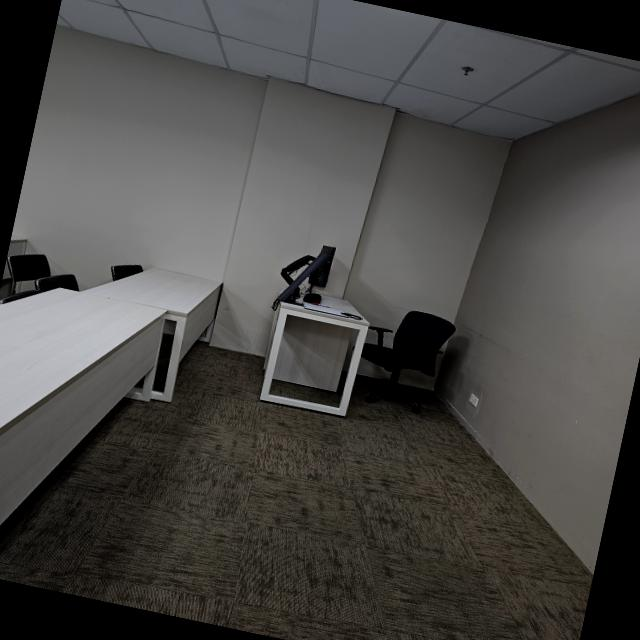footpath: (87, 403, 504, 640)
obstacle: (0, 274, 147, 596), (256, 235, 378, 422), (348, 298, 460, 418)
